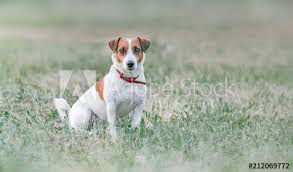dog_sitting: (52, 36, 151, 140)
